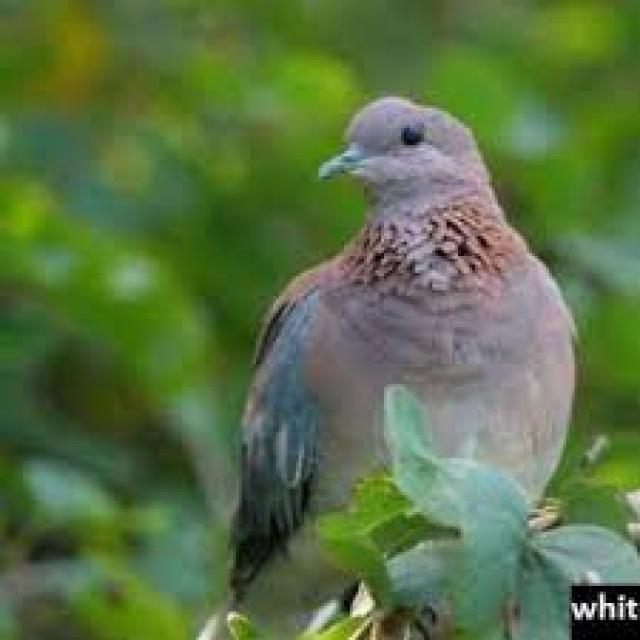bird: (216, 84, 564, 636)
